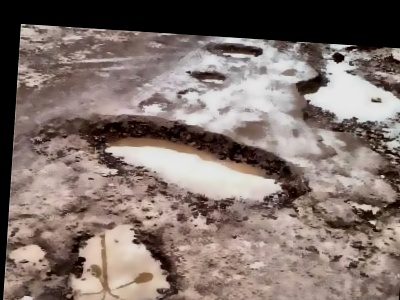pothole: (28, 106, 308, 221), (285, 42, 400, 199), (62, 215, 184, 300), (343, 197, 400, 229), (206, 40, 263, 62), (7, 239, 49, 264), (137, 96, 173, 114), (190, 70, 227, 85), (176, 87, 205, 106)
